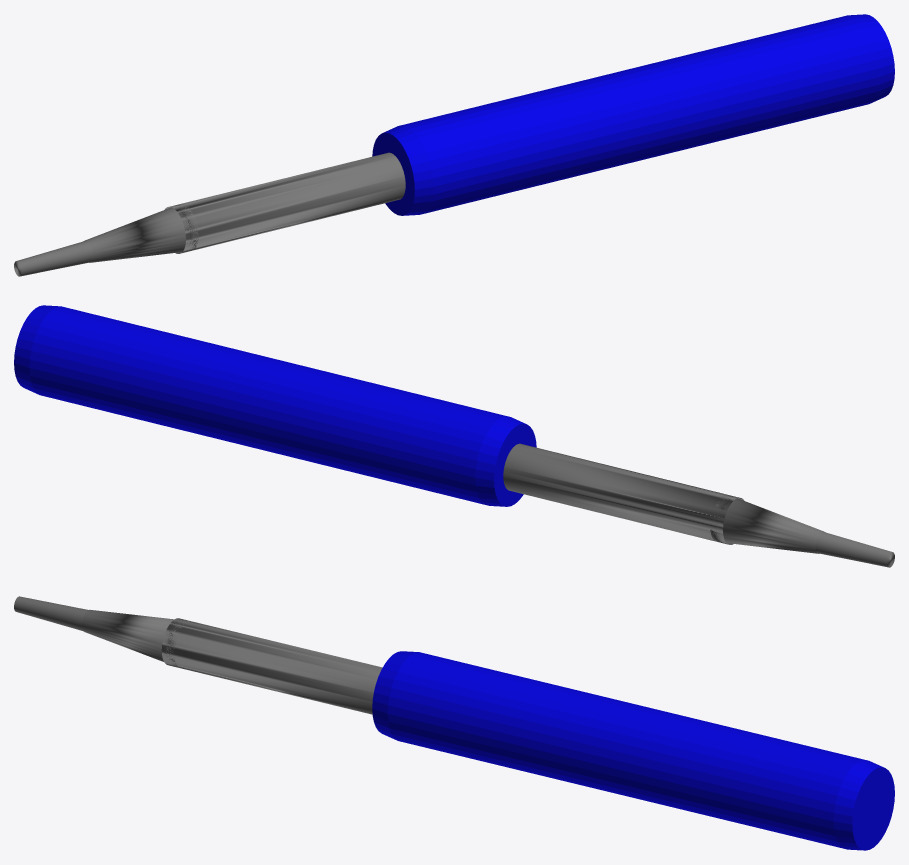
Rendered from SCREWDRIVER.glb.
The picture shows the model from 3 angles, top to bottom: view 1: azimuth 30°, elevation 25°; view 2: azimuth 150°, elevation 25°; view 3: azimuth 330°, elevation 25°; orthographic projection.
Parts seen in each view (by area): view 1: GRIP_HANDLE, SCREWDRIVER; view 2: GRIP_HANDLE, SCREWDRIVER; view 3: GRIP_HANDLE, SCREWDRIVER.
Part boxes in pixels (box(x1,y1,x2,y2)): GRIP_HANDLE: box(372, 14, 894, 215); SCREWDRIVER: box(14, 152, 405, 276); GRIP_HANDLE: box(14, 305, 536, 506); SCREWDRIVER: box(503, 443, 894, 567); GRIP_HANDLE: box(372, 651, 894, 850); SCREWDRIVER: box(14, 596, 382, 714).
Size of the model in its own units: 0.836 by 0.0787 by 0.0777.
